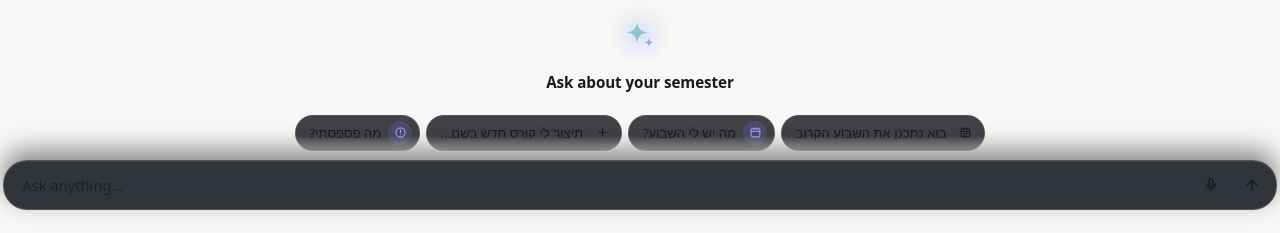
Test case: AgentPanel › puts what you say into the field to check before sending
This screenshot has width=1280, height=233.
Step 1. Type "plan" into the text box → (599, 185), box [10,167,1188,203]
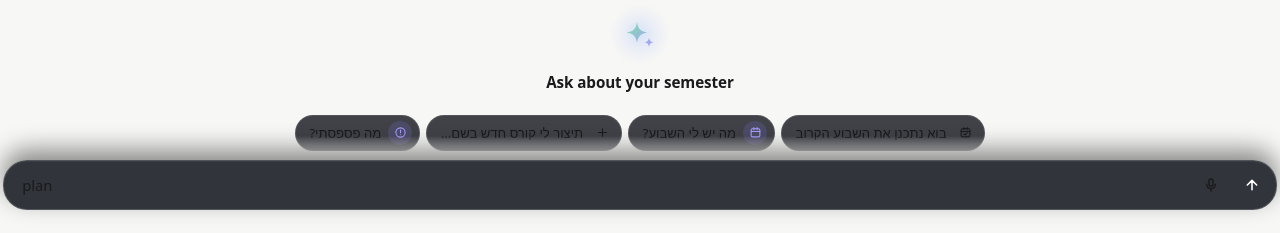
Step 2. Click the button named "Dictate" → (1211, 185), box [1193,167,1229,203]
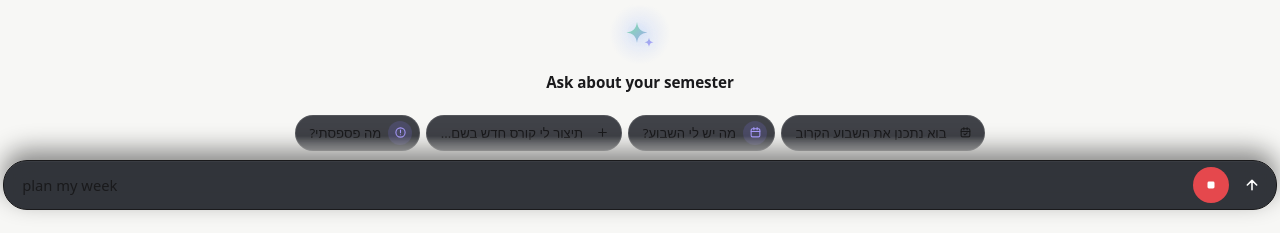
Check: the text box holds "plan my week", box [10,167,1188,203]
Step 3. Click the button named "Stop dictation" → (1211, 185), box [1193,167,1229,203]
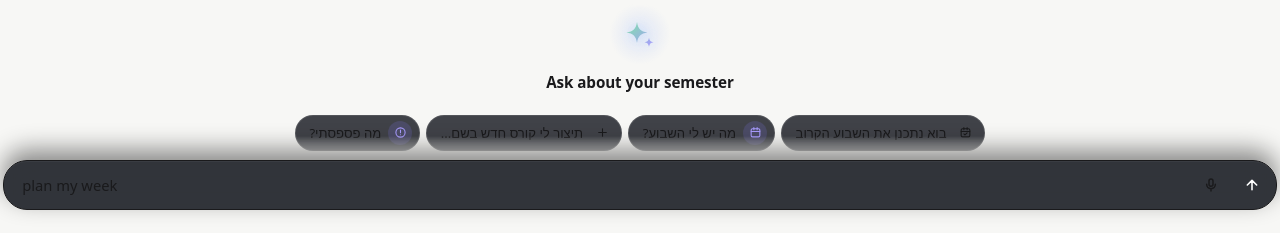
Check: the button named "Dictate" is shown, box [1193,167,1229,203]
